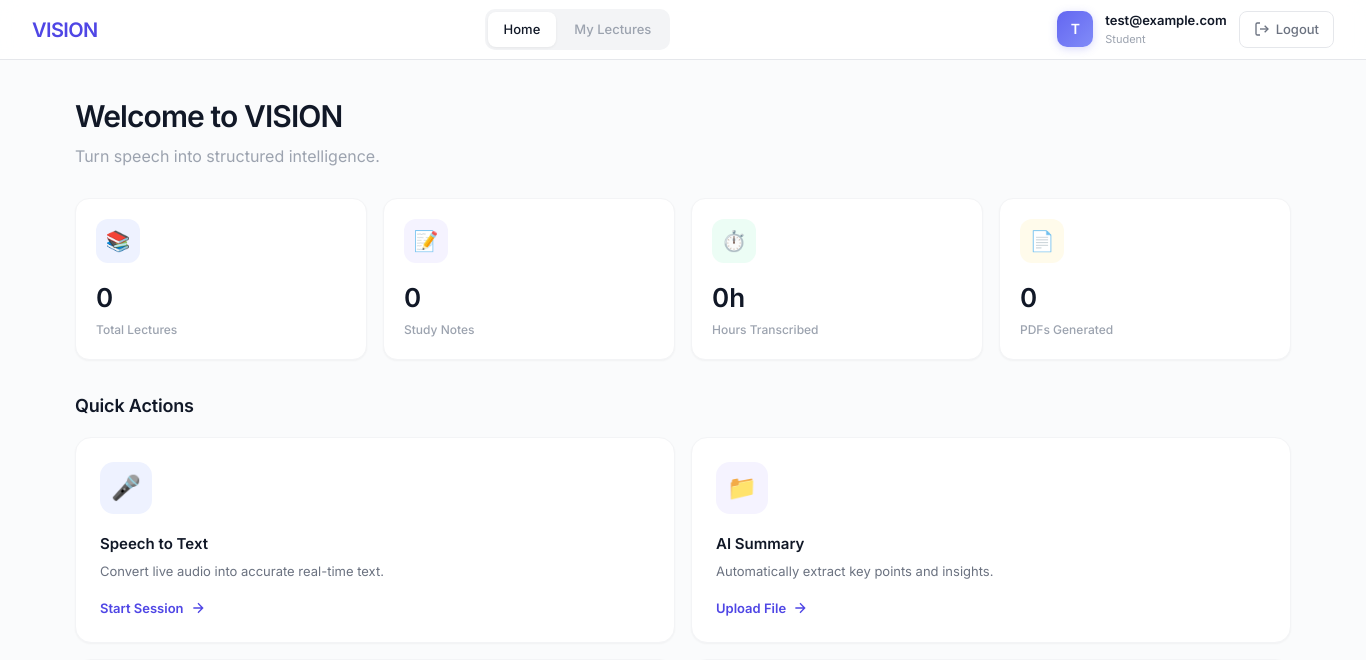
DashboardLayout › should return to home when back button is clicked
Click the button "My Lectures" at (613, 30), box [558, 12, 667, 47]
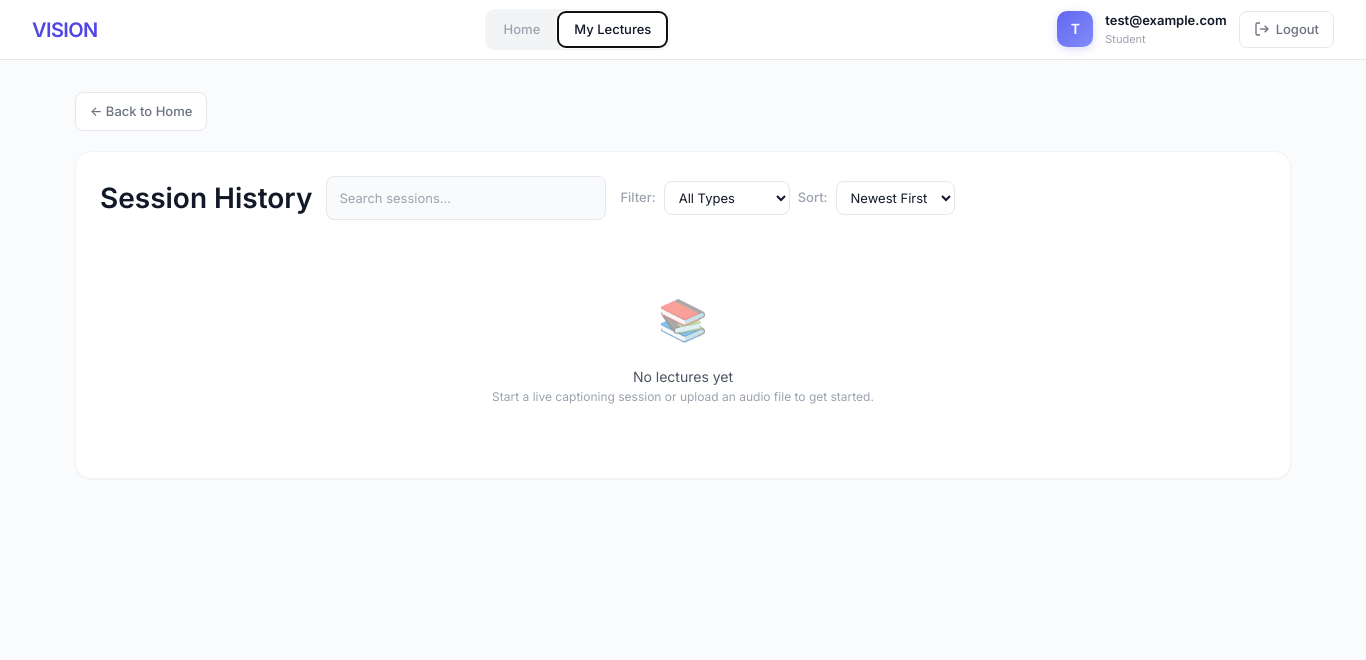
Now the button labelled "← Back to Home" is shown
Click the button labelled "← Back to Home" at (141, 111), box [75, 92, 207, 131]
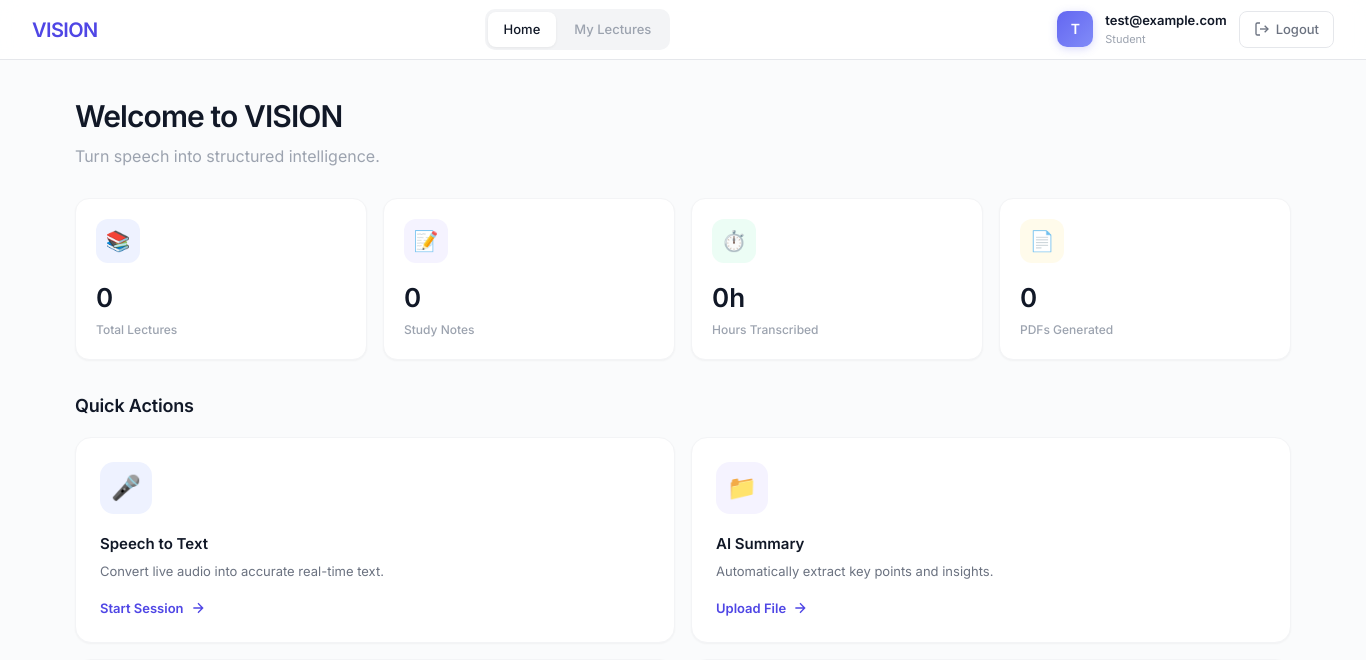
Now the heading "Welcome to VISION" is shown, box [75, 98, 342, 134]
